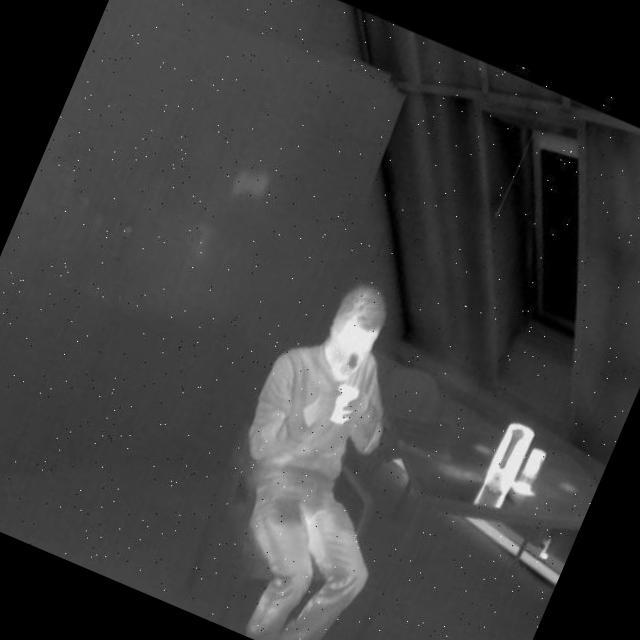person: (168, 264, 477, 640)
